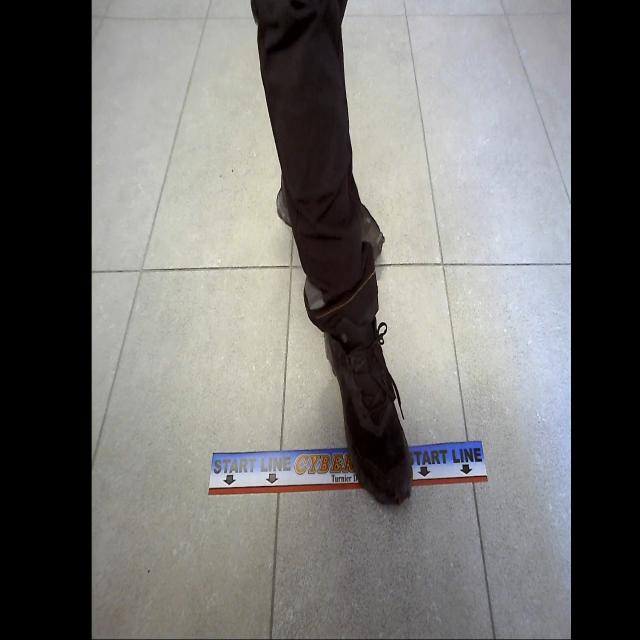foot: (323, 303, 415, 510)
